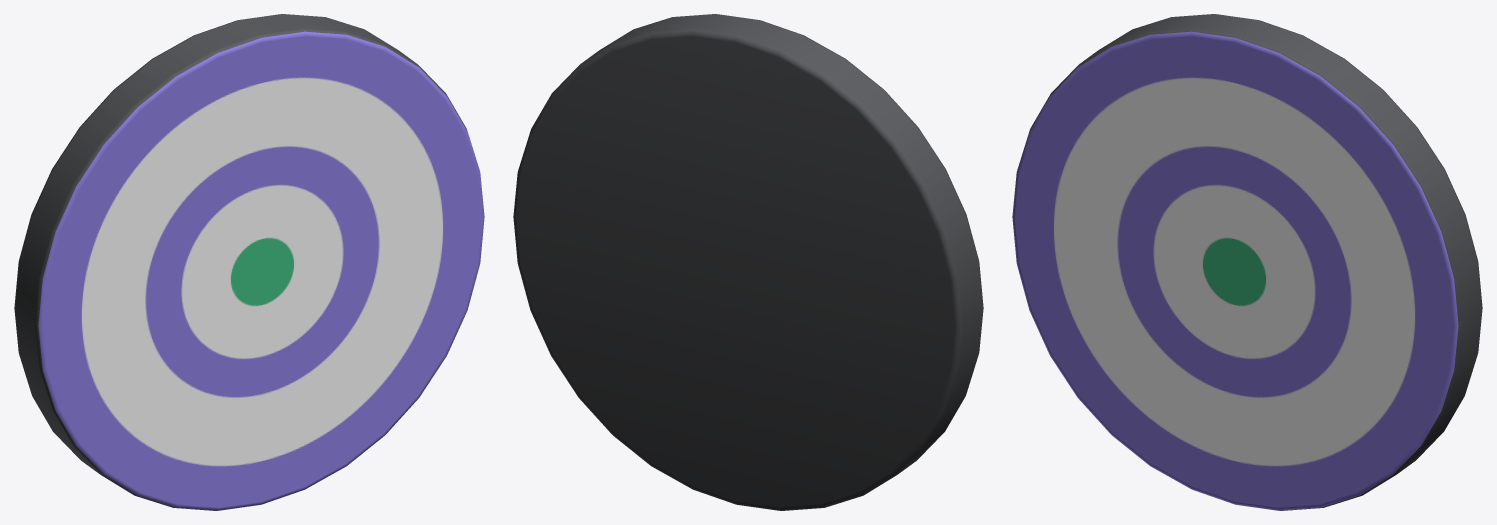
File: target.glb
The picture shows the model from 3 angles, left to right: view 1: azimuth 30°, elevation 25°; view 2: azimuth 150°, elevation 25°; view 3: azimuth 330°, elevation 25°; orthographic projection.
Visible parts, largest first — view 1: Cylinder; view 2: Cylinder; view 3: Cylinder.
Boxes of the visible parts, <box> form: Cylinder: <box>14,14,484,510</box>; Cylinder: <box>513,14,983,510</box>; Cylinder: <box>1012,14,1482,510</box>.
Bounding box in the file's own units: 2 × 2 × 0.2.
Materials: 1 (1 with a texture image).
